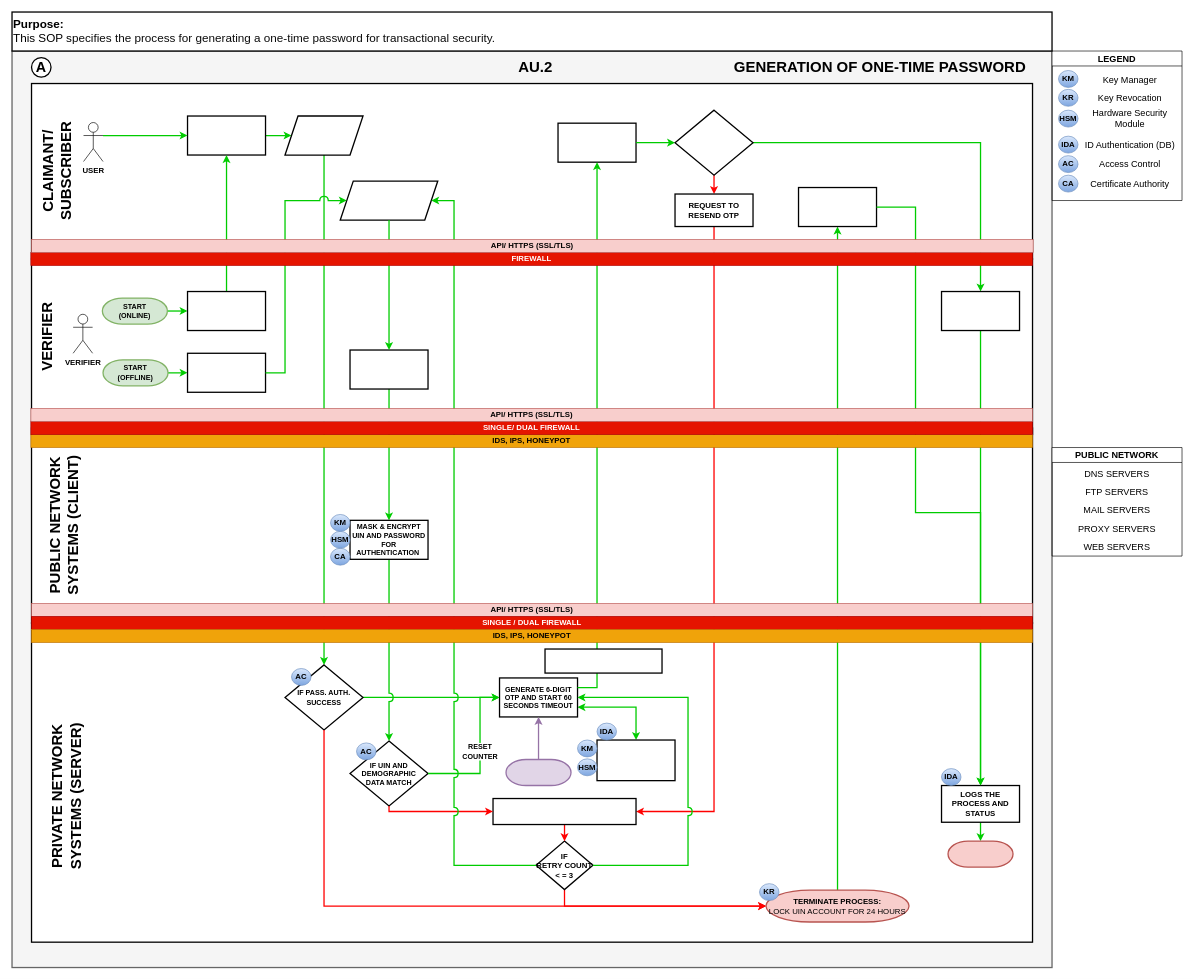
Some shapes in this 1193 by 979 pixel diagram are drawn without their labels. The shapes that lost their labels are listed below. From the top down, each one's centre as x and y in pixels, then its label:
point (226, 135): VISIT DID PORTAL LOGIN PAGE
point (323, 135): LOGIN - PASS. AUTH.: AU.1.B
point (596, 142): RECEIVE OTP ON EMAIL/PHONE/ MULTIUSER's PHONE
point (713, 142): IF OTP RECEIVED
point (388, 200): PROVIDE UIN AND DEMOGRAPHIC DATA
point (837, 207): RECEIVE OTP GENERATION FAILED NOTIFICATION ON EMAIL/PHONE
point (226, 311): REQUEST AUTHENTICATION WITH SECURE LINK
point (980, 311): PROCEED TO OTP AUTHENTICATION AU.2.C
point (226, 372): REQUEST CLAIMANT UIN AND DEMOGRAPHIC DETAILS
point (388, 369): SEND UIN AND DEMOGRAPHIC DATA FOR AUTHENTICATION
point (603, 660): NOTIFICATION GENERATOR
point (538, 772): CONTINUE: AUTH.
point (635, 760): STORE OTP WITH ENCRYPTION, HASHING AND TIME
point (564, 811): EXCEPTION AND ERROR HANDLING (COUNTER)
point (980, 853): END
